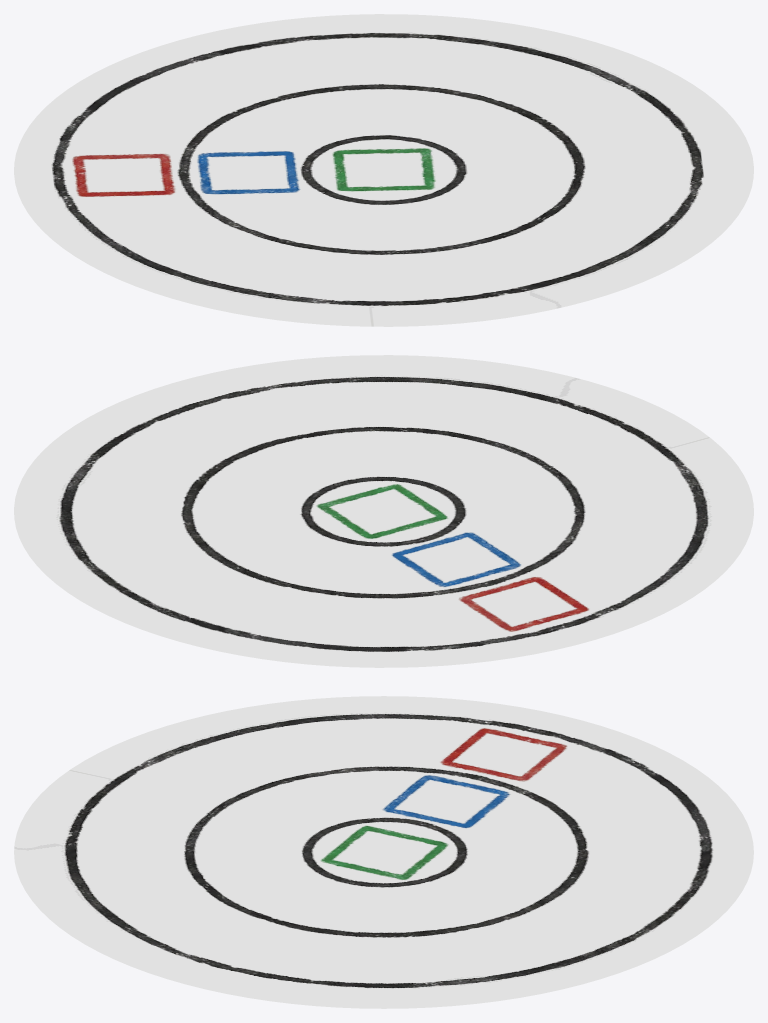
3 views of the same model, one above another, from view 1: azimuth 30°, elevation 25°; view 2: azimuth 150°, elevation 25°; view 3: azimuth 270°, elevation 25° (orthographic).
Parts seen in each view (by area): view 1: Blat.001; view 2: Blat.001; view 3: Blat.001.
Part boxes in pixels (<box>): Blat.001: <box>14,14,753,326</box>; Blat.001: <box>14,355,753,667</box>; Blat.001: <box>14,696,753,1008</box>.
Bounding box in the file's own units: 4475 × 0.00126 × 4475.
Materials: 1 (1 with a texture image).
